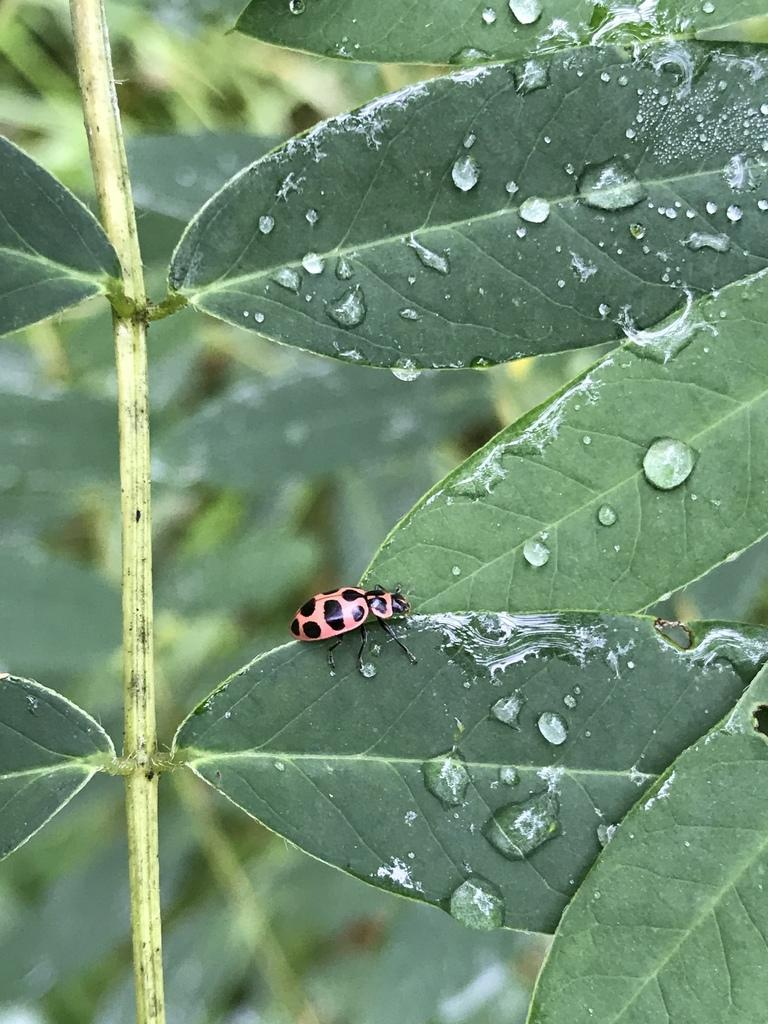ladybug: (287, 580, 424, 678)
